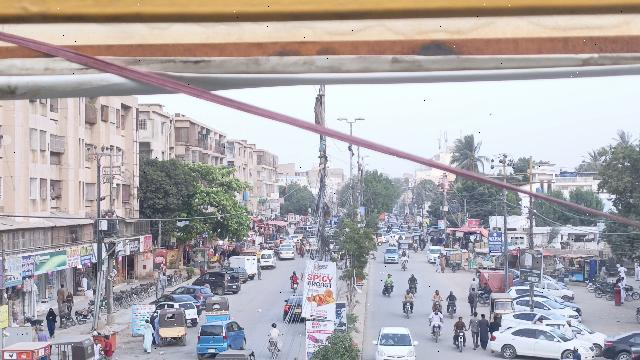Bike: (454, 328, 468, 353), (268, 338, 283, 359), (430, 319, 442, 343), (447, 300, 459, 319), (404, 298, 413, 317), (384, 281, 394, 297), (432, 297, 442, 313), (408, 282, 418, 296), (290, 281, 301, 292)
Car: (489, 324, 598, 358), (194, 321, 249, 355), (370, 324, 420, 360), (190, 271, 243, 294), (282, 292, 303, 323)
Person: (139, 318, 156, 354), (467, 310, 481, 350), (44, 306, 60, 338), (478, 312, 491, 349), (466, 287, 481, 315), (452, 315, 468, 331), (562, 318, 575, 337), (270, 321, 284, 338), (429, 308, 445, 322), (569, 344, 582, 360), (489, 314, 500, 332), (402, 287, 415, 302), (431, 288, 443, 302), (383, 271, 394, 285), (446, 290, 458, 302), (290, 271, 300, 284), (408, 273, 418, 285)
Rickshaw: (159, 305, 188, 345), (204, 294, 231, 322), (489, 293, 515, 317)
Truck: (227, 254, 259, 276)
